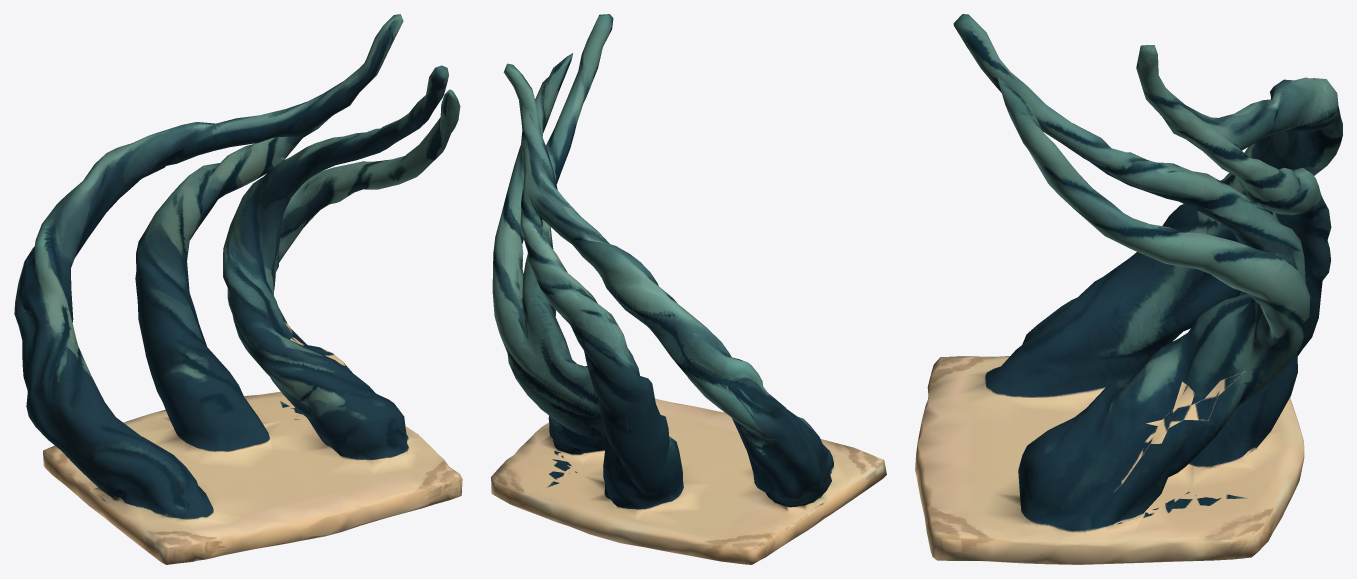
Rendered from palm1.glb.
3 renders of one model, left to right at view 1: azimuth 30°, elevation 25°; view 2: azimuth 150°, elevation 25°; view 3: azimuth 270°, elevation 25°, orthographic. The views are drawn at different scales.
Parts seen in each view (by area): view 1: palm1; view 2: palm1; view 3: palm1.
Boxes of the visible parts, <box> form: palm1: <box>14,14,462,564</box>; palm1: <box>491,14,886,564</box>; palm1: <box>915,14,1342,564</box>.
Bounding box in the file's own units: 1.72 × 1.91 × 1.37.
1 material, 1 textured.
